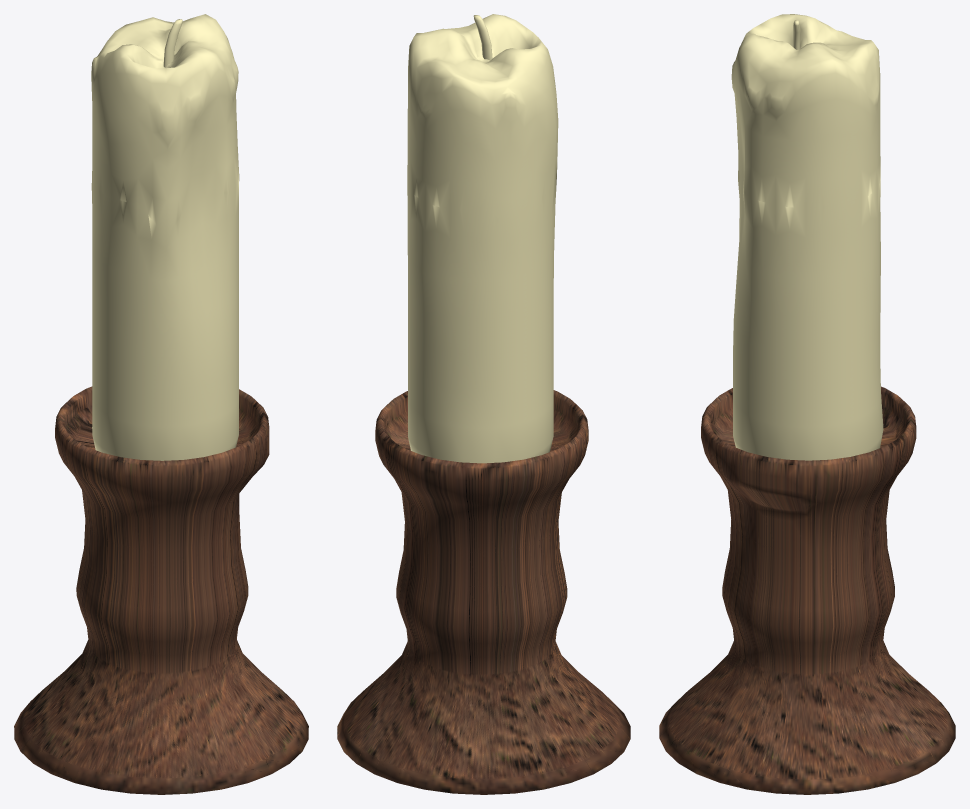
The model's file is CandleStick.fbx.
3 views of the same model, side by side, from view 1: azimuth 30°, elevation 25°; view 2: azimuth 150°, elevation 25°; view 3: azimuth 270°, elevation 25° (orthographic).
Parts seen in each view (by area): view 1: Base, Candle; view 2: Base, Candle; view 3: Base, Candle.
Part boxes in pixels (x1=…): Base: x1=14, y1=386, x2=308, y2=794; Candle: x1=91, y1=14, x2=239, y2=460; Base: x1=337, y1=390, x2=630, y2=794; Candle: x1=407, y1=14, x2=558, y2=463; Base: x1=659, y1=386, x2=955, y2=794; Candle: x1=731, y1=14, x2=883, y2=460.
Bounding box in the file's own units: 17.7 × 47.33 × 17.61.
2 materials, 2 textured.
